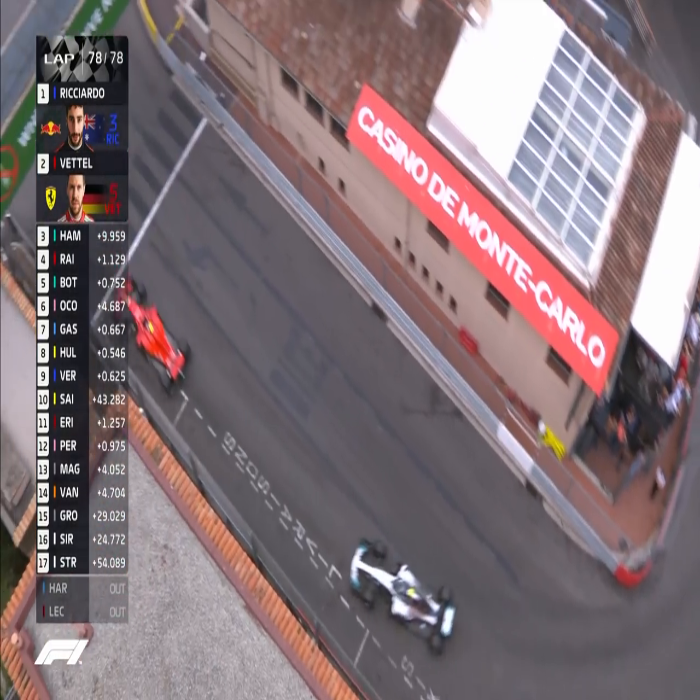f1_car: (345, 531, 462, 656), (104, 273, 205, 400)
